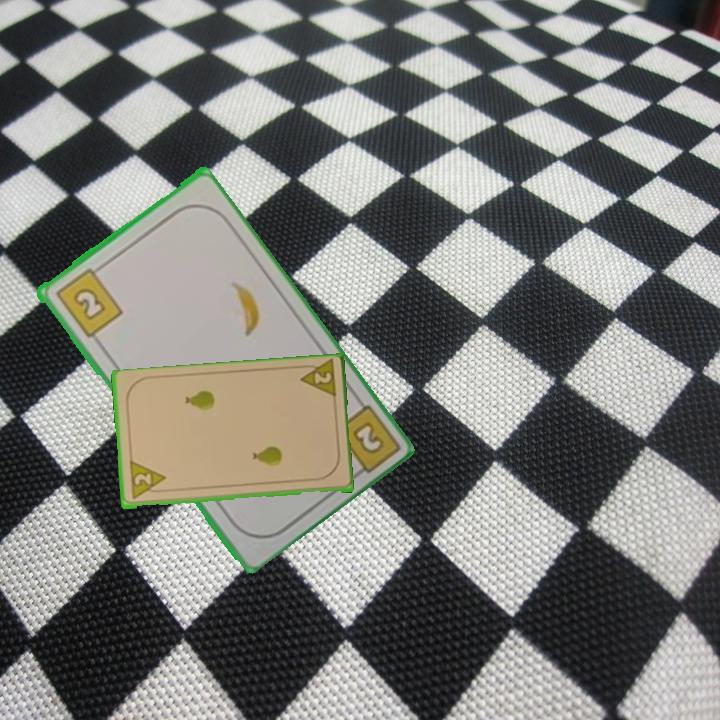2b: (51, 261, 125, 341), (348, 418, 387, 458)
2p: (295, 358, 339, 403), (126, 459, 168, 502)
